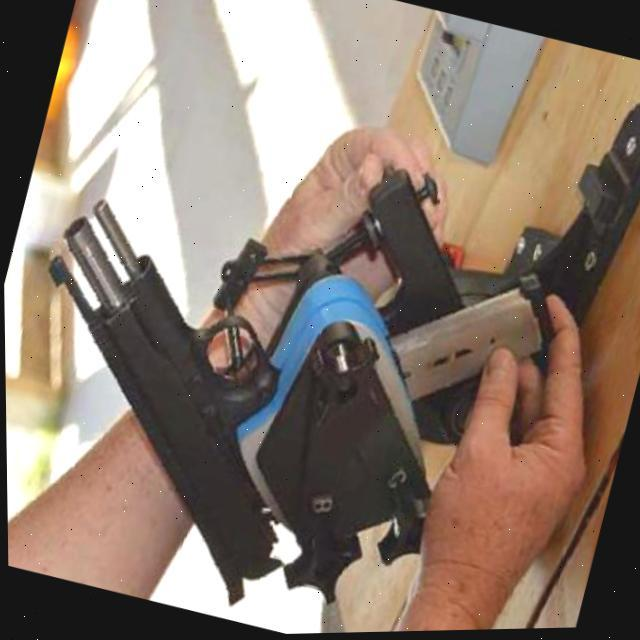gun: (2, 158, 565, 640)
